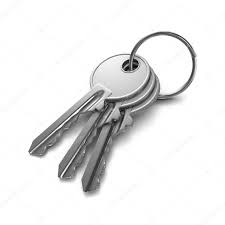key: (25, 47, 152, 162)
